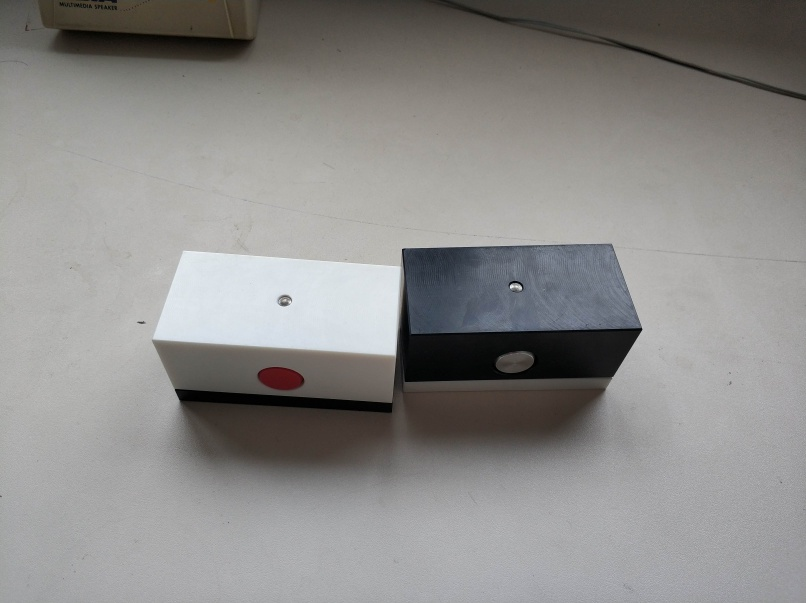black+white+red: (149, 247, 402, 415)
white+black+silver: (405, 241, 644, 395)
